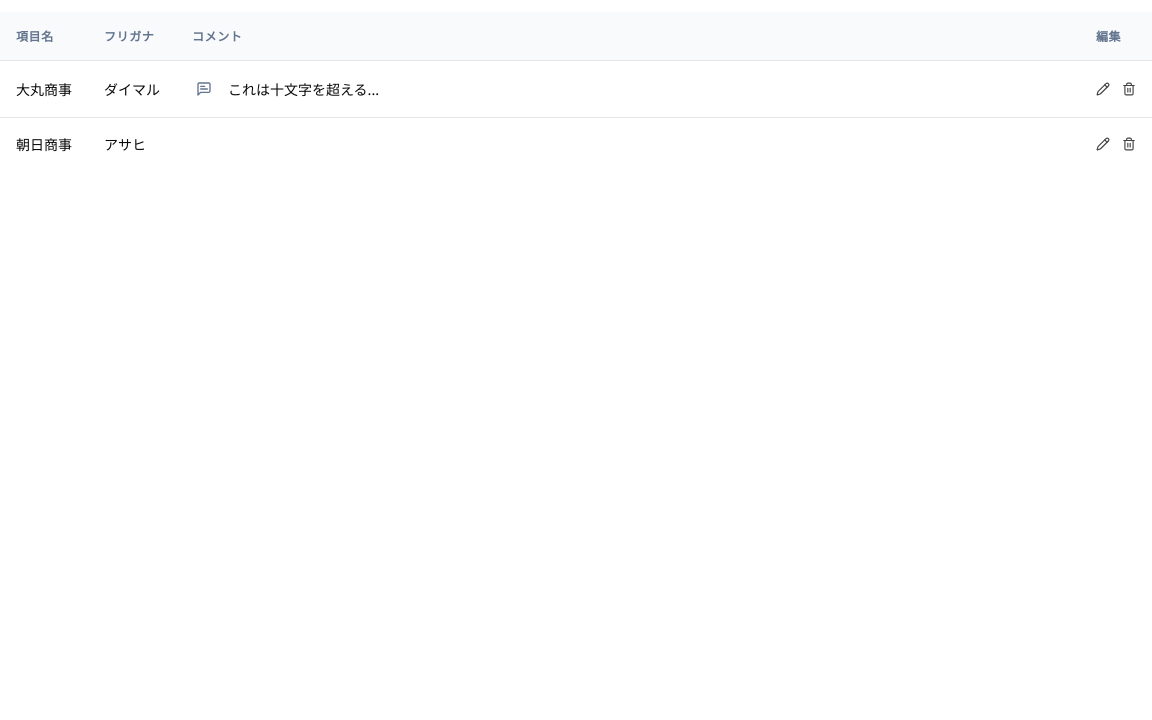
Test: MasterTable の編集 › モーダルで更新すると Action が呼ばれモーダルが閉じる
Click the button named "編集" in the row of "大丸商事": (1103, 88) left=1096, top=82, right=1110, bottom=96
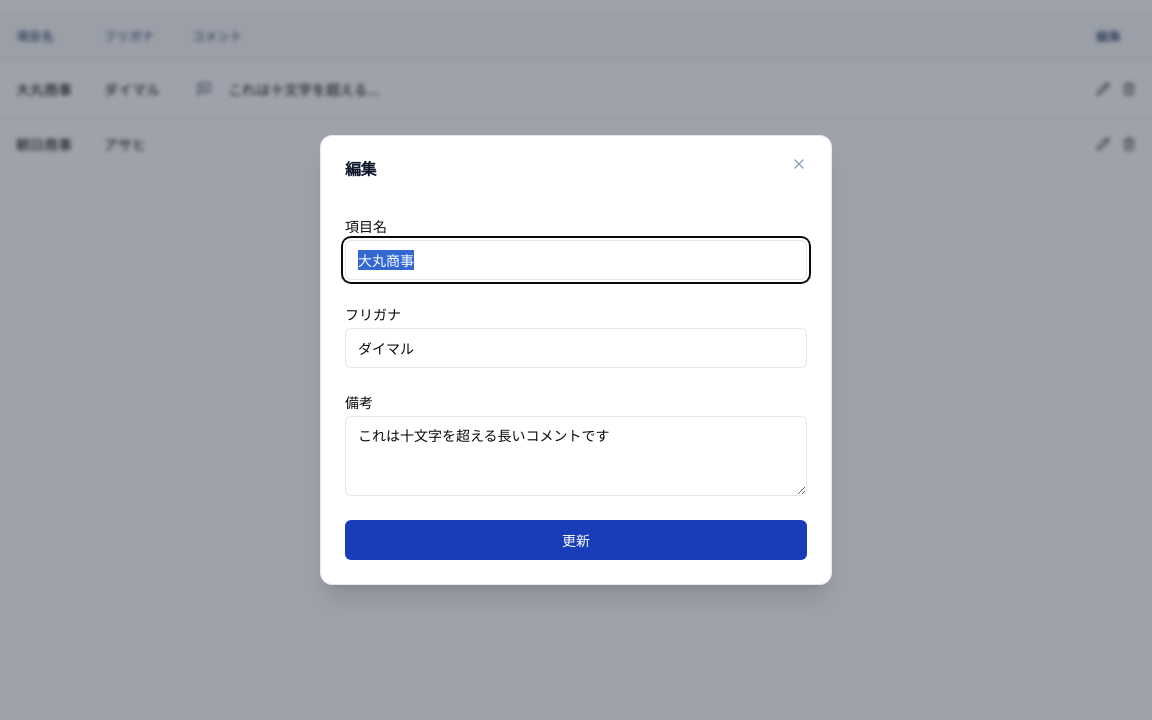
Click the button "更新": (576, 540) left=345, top=520, right=807, bottom=560
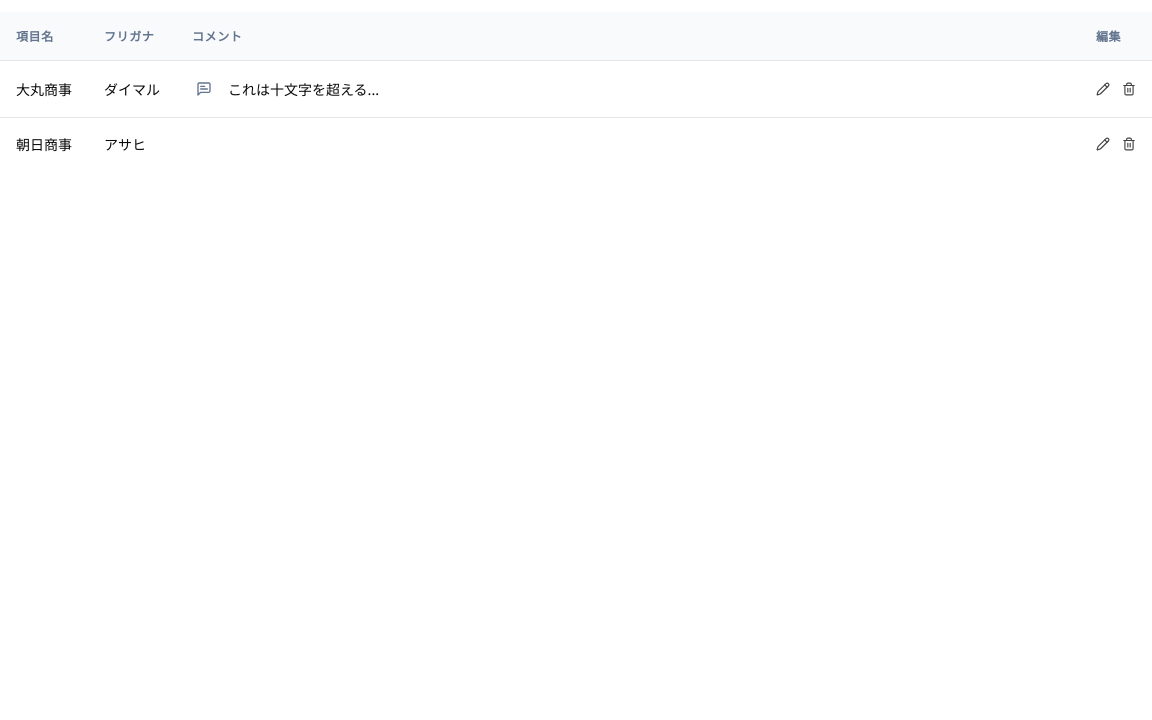
Result: the dialog is gone
